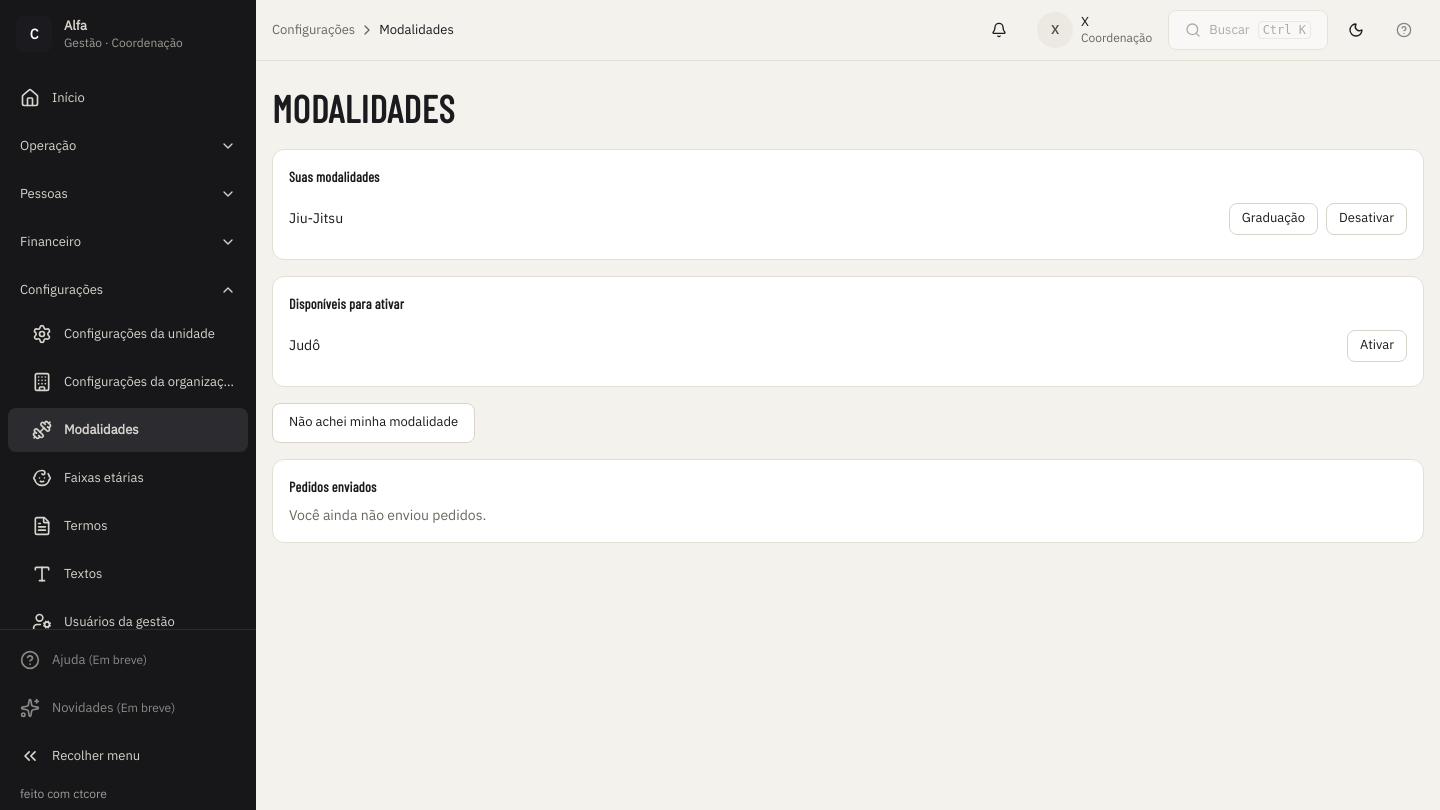
Scenario: GraduationDialog › CA12: o 403 do servidor mostra o estado sem permissão
Check: the heading "Modalidades" is shown, box x1=272 y1=85 x2=455 y2=132
Click the button "Graduação" at [1273, 218], box x1=1229 y1=202 x2=1318 y2=234
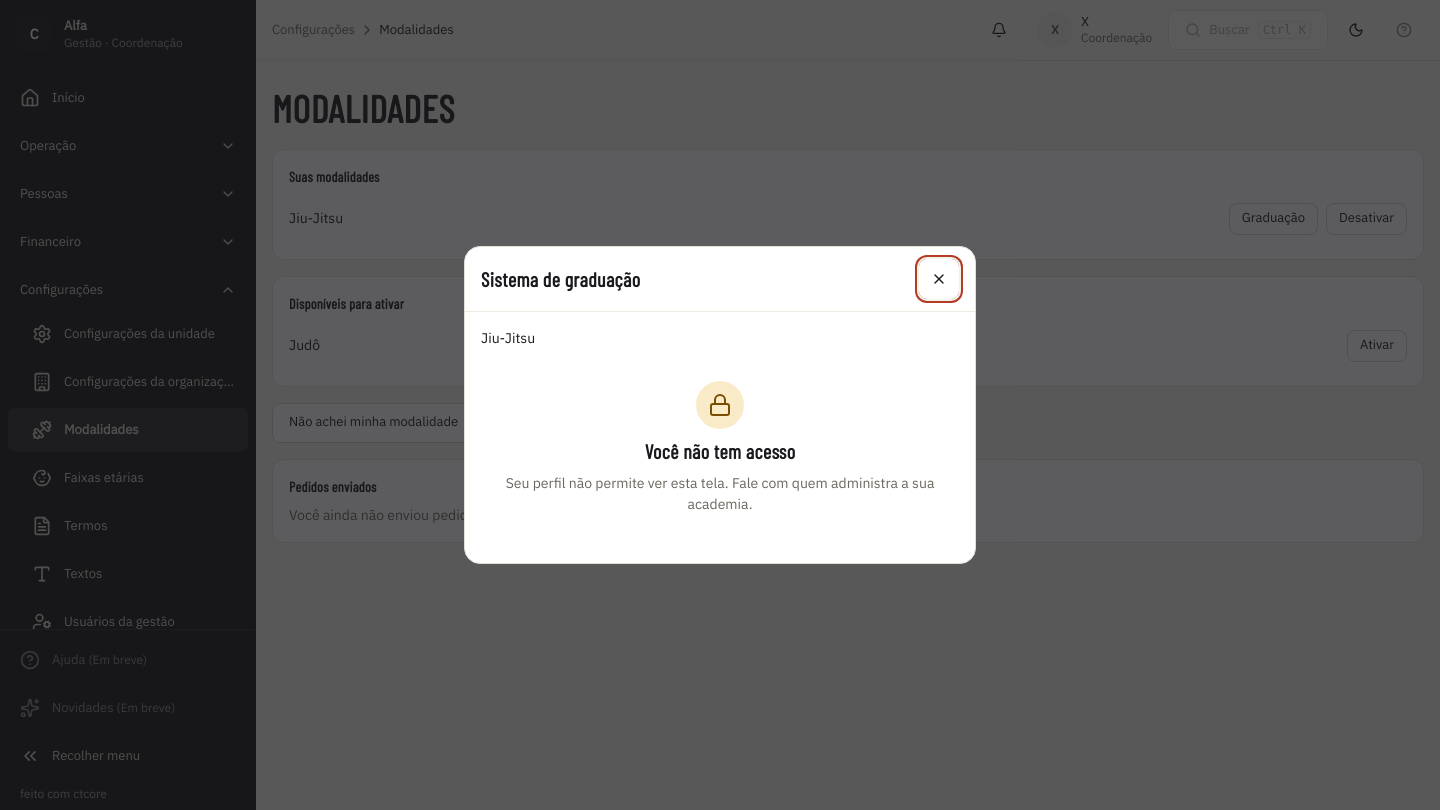
Check: the heading "Você não tem acesso" is shown, box x1=645 y1=437 x2=795 y2=465
